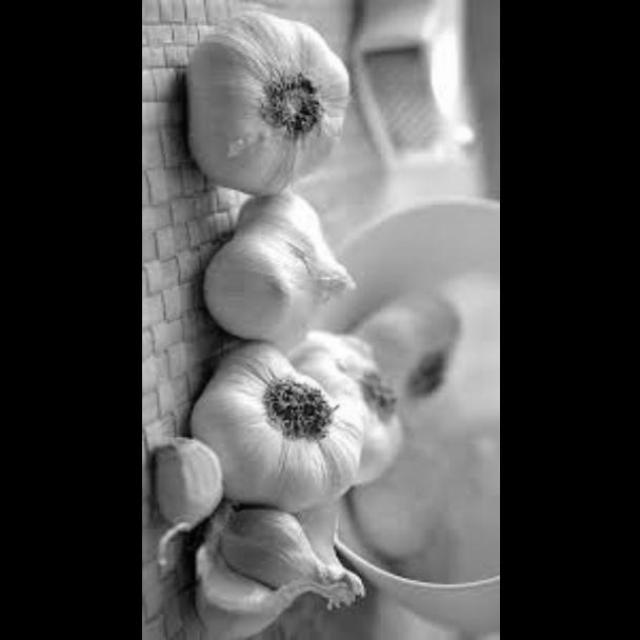toi: (177, 8, 356, 200), (189, 342, 377, 518), (192, 194, 366, 360), (182, 500, 363, 640), (294, 340, 412, 502), (341, 439, 459, 563), (352, 286, 467, 411), (157, 427, 232, 539)
